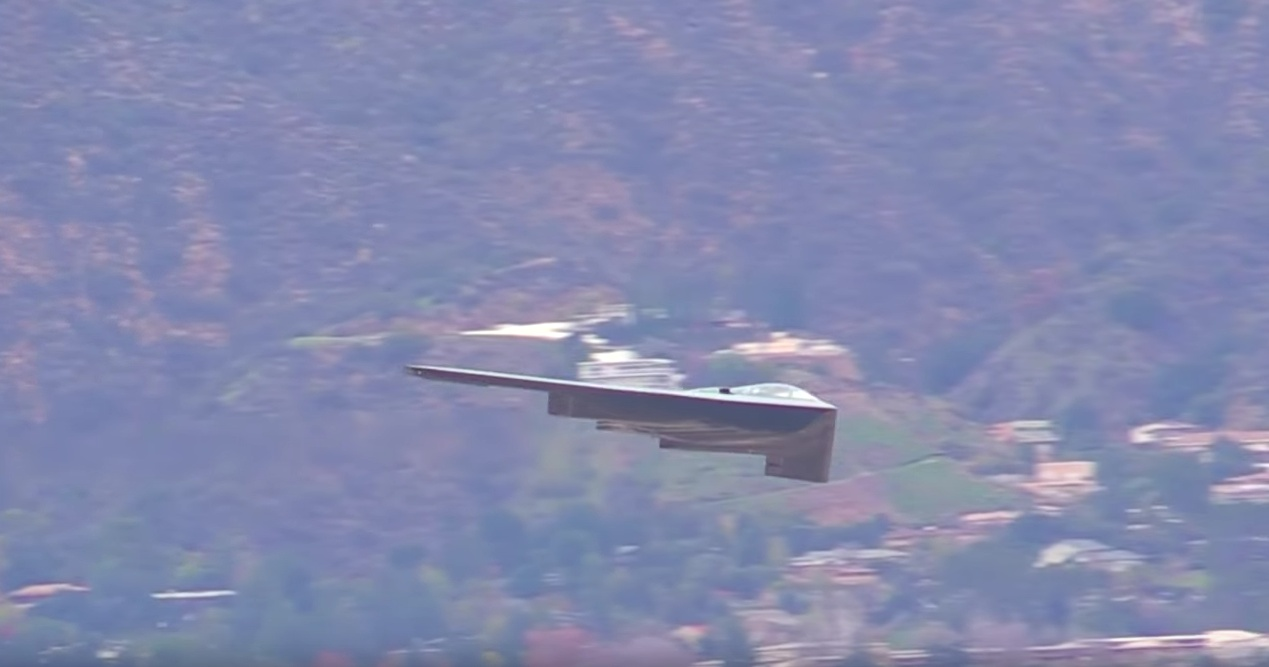B2: (401, 364, 838, 484)
